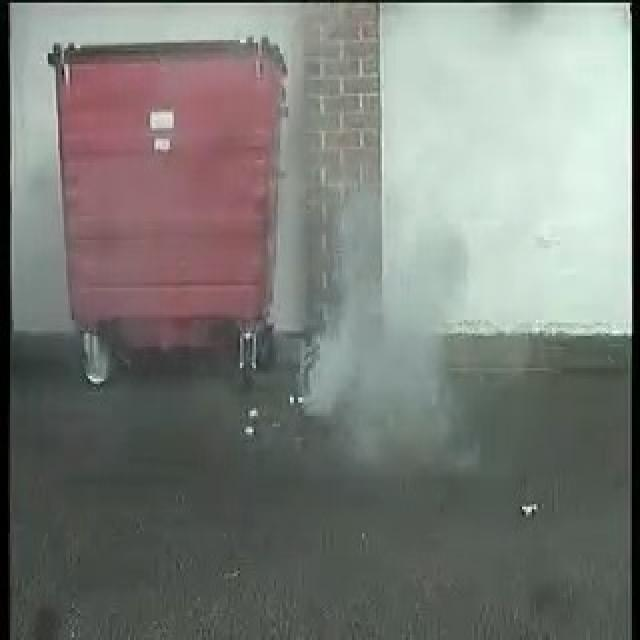smoke: (306, 186, 466, 436)
